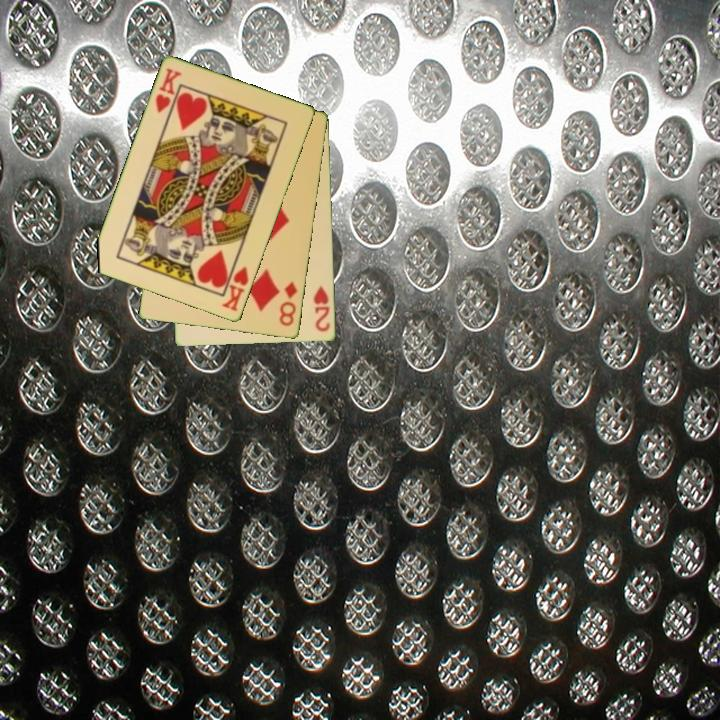2h: (311, 283, 333, 335)
8d: (276, 278, 301, 329)
Kh: (219, 257, 252, 314), (152, 65, 185, 116)
